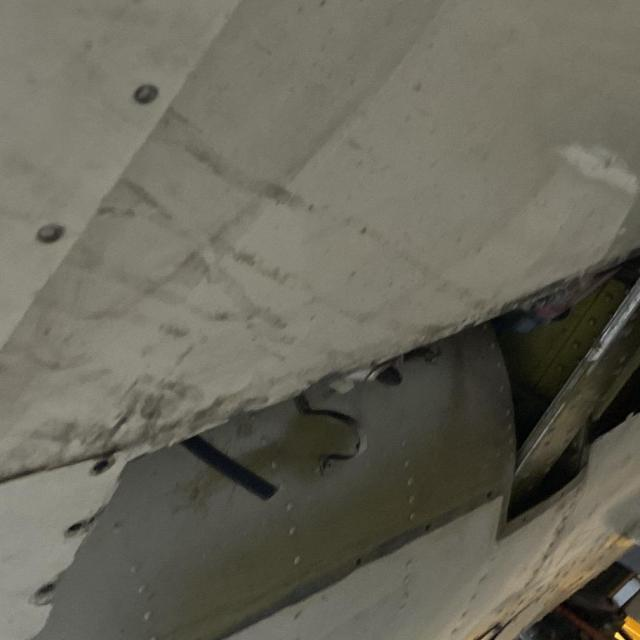Missing-head: (33, 223, 64, 245), (131, 82, 160, 105), (88, 455, 116, 476), (63, 519, 89, 538)
